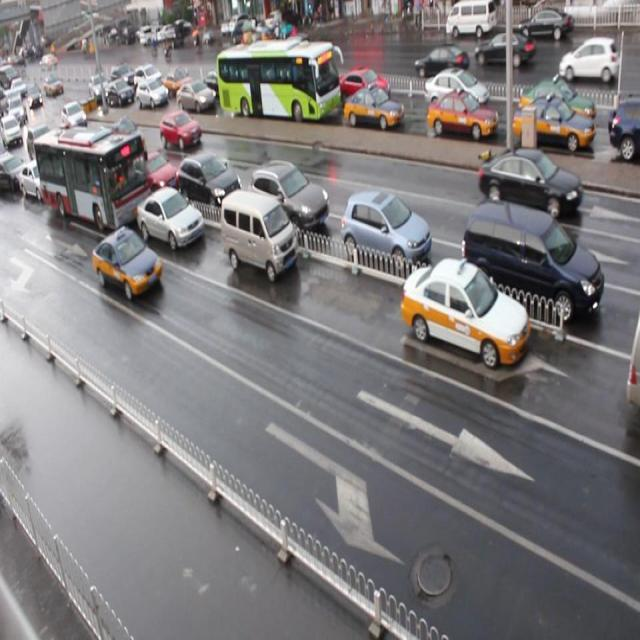BigCar: (221, 44, 343, 133), (36, 128, 130, 226)
car: (470, 197, 604, 335), (394, 257, 525, 378), (480, 142, 584, 217), (343, 182, 429, 268), (222, 189, 295, 286), (257, 146, 328, 224), (136, 181, 200, 261), (91, 231, 162, 301), (420, 89, 494, 152), (512, 100, 589, 155), (340, 81, 403, 141), (560, 42, 621, 94), (185, 148, 238, 202), (410, 44, 468, 80), (446, 0, 491, 46), (474, 32, 524, 73), (522, 8, 565, 48), (162, 106, 200, 149), (179, 78, 218, 116), (134, 77, 167, 117), (343, 62, 389, 90), (68, 90, 88, 125)
